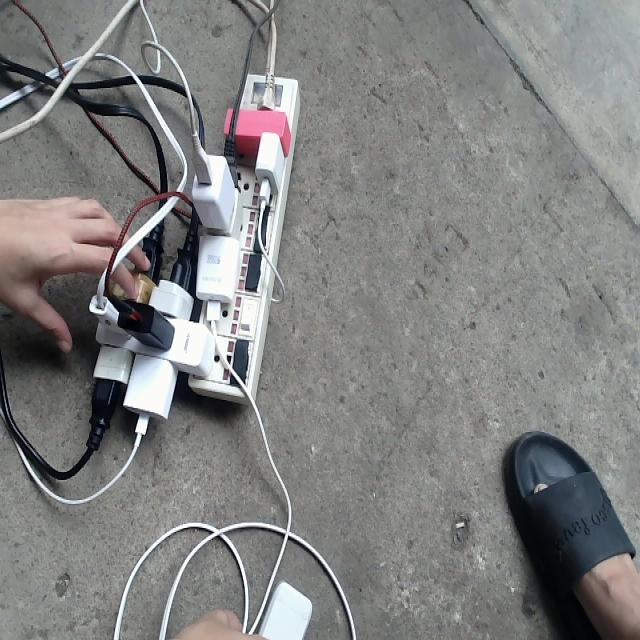-: (76, 47, 319, 448)
